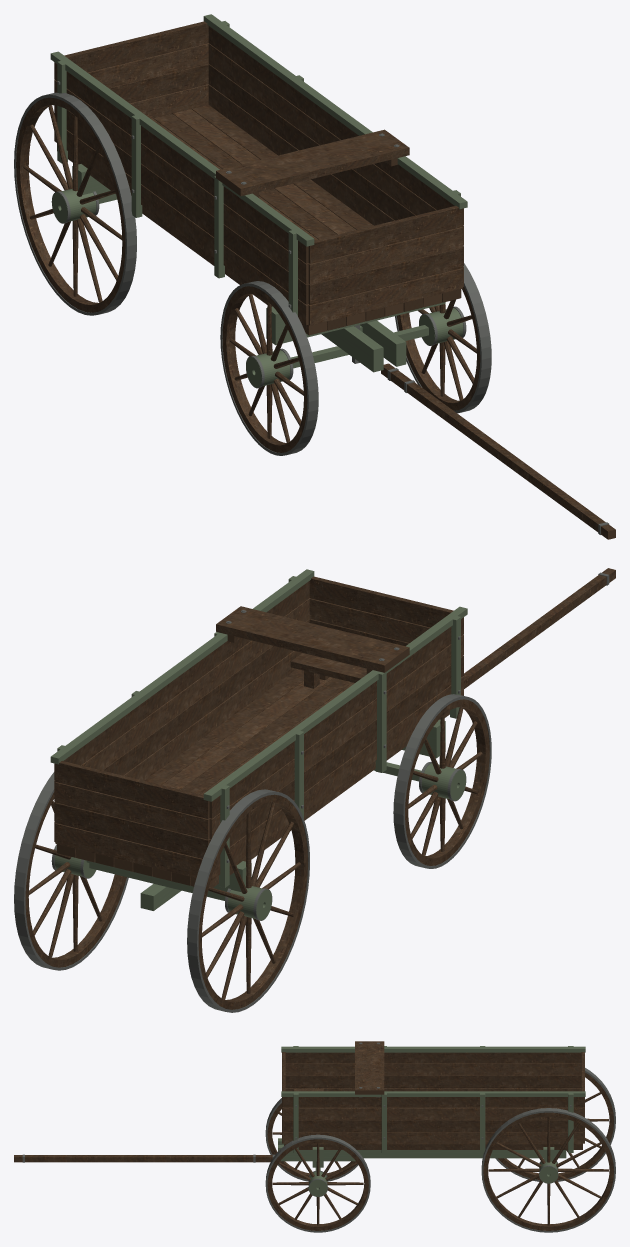
The model's file is wagon-w01.glb.
The picture shows the model from 3 angles, top to bottom: view 1: azimuth 30°, elevation 25°; view 2: azimuth 150°, elevation 25°; view 3: azimuth 270°, elevation 25°; orthographic projection. The views are drawn at different scales.
Parts seen in each view (by area): view 1: vehicle_body_plank_b, vehicle_body_plank_a, vehicle_body_paint, vehicle_wheel_rear_right_timber, vehicle_wheel_front_right_timber, vehicle_body_timber, vehicle_wheel_rear_right_iron, vehicle_tongue_timber, vehicle_wheel_front_left_timber, vehicle_steer_front_paint, vehicle_wheel_front_right_iron, vehicle_wheel_front_left_iron (+4 smaller); view 2: vehicle_body_plank_b, vehicle_body_plank_a, vehicle_body_paint, vehicle_wheel_rear_right_timber, vehicle_body_timber, vehicle_wheel_front_right_timber, vehicle_wheel_rear_left_timber, vehicle_wheel_rear_right_iron, vehicle_wheel_front_right_iron, vehicle_wheel_rear_left_iron, vehicle_tongue_timber, vehicle_root_paint (+3 smaller); view 3: vehicle_body_plank_b, vehicle_body_plank_a, vehicle_body_paint, vehicle_wheel_rear_left_timber, vehicle_wheel_front_left_timber, vehicle_tongue_timber, vehicle_root_paint, vehicle_body_timber, vehicle_wheel_rear_left_iron, vehicle_wheel_rear_right_timber, vehicle_wheel_front_left_iron, vehicle_steer_front_paint (+5 smaller).
Boxes of the visible parts, <box> form: vehicle_body_plank_b: <box>54,21,463,330</box>; vehicle_body_plank_a: <box>54,43,463,335</box>; vehicle_body_paint: <box>50,14,467,315</box>; vehicle_wheel_rear_right_timber: <box>16,97,125,312</box>; vehicle_wheel_front_right_timber: <box>222,286,307,452</box>; vehicle_body_timber: <box>216,129,409,197</box>; vehicle_wheel_rear_right_iron: <box>14,92,136,315</box>; vehicle_tongue_timber: <box>381,363,615,539</box>; vehicle_wheel_front_left_timber: <box>397,286,480,410</box>; vehicle_steer_front_paint: <box>291,320,428,372</box>; vehicle_wheel_front_right_iron: <box>220,281,318,455</box>; vehicle_wheel_front_left_iron: <box>395,263,491,413</box>; vehicle_body_plank_b: <box>54,576,463,885</box>; vehicle_body_plank_a: <box>54,598,463,887</box>; vehicle_body_paint: <box>50,569,467,887</box>; vehicle_wheel_rear_right_timber: <box>198,794,307,1009</box>; vehicle_body_timber: <box>216,606,409,688</box>; vehicle_wheel_front_right_timber: <box>405,699,489,865</box>; vehicle_wheel_rear_left_timber: <box>25,792,126,967</box>; vehicle_wheel_rear_right_iron: <box>187,789,309,1012</box>; vehicle_wheel_front_right_iron: <box>393,694,491,868</box>; vehicle_wheel_rear_left_iron: <box>14,772,128,970</box>; vehicle_tongue_timber: <box>464,568,615,688</box>; vehicle_root_paint: <box>86,719,445,910</box>; vehicle_body_plank_b: <box>282,1052,584,1149</box>; vehicle_body_plank_a: <box>282,1063,584,1144</box>; vehicle_body_paint: <box>281,1046,585,1152</box>; vehicle_wheel_rear_left_timber: <box>483,1112,614,1230</box>; vehicle_wheel_front_left_timber: <box>267,1139,368,1230</box>; vehicle_tongue_timber: <box>14,1155,283,1162</box>; vehicle_root_paint: <box>312,1147,566,1167</box>; vehicle_body_timber: <box>294,1041,384,1094</box>; vehicle_wheel_rear_left_iron: <box>481,1108,615,1232</box>; vehicle_wheel_rear_right_timber: <box>498,1072,614,1180</box>; vehicle_wheel_front_left_iron: <box>265,1134,370,1232</box>; vehicle_steer_front_paint: <box>278,1138,362,1188</box>.
Bounding box in the file's own units: 1.43 × 1.59 × 6.14.
8 materials, 8 textured.
